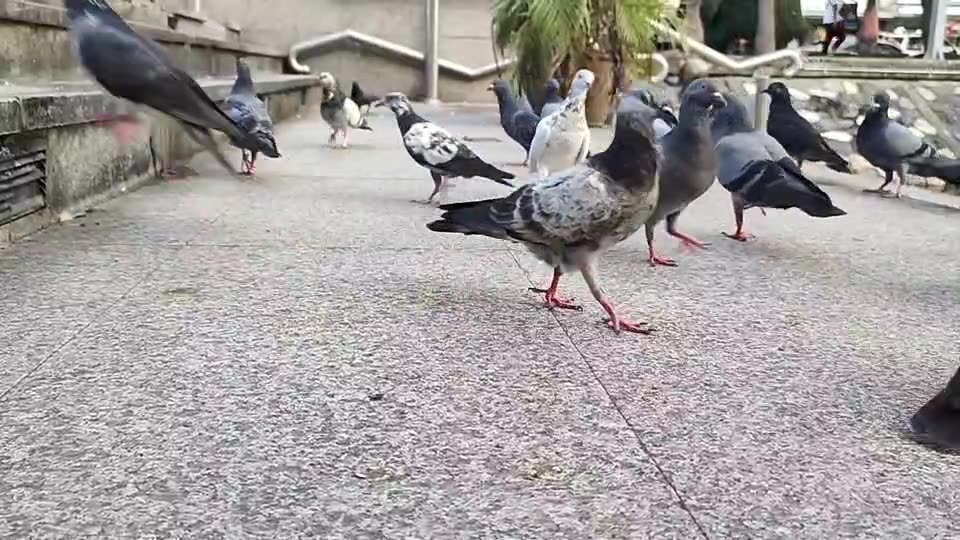Pigeon: (425, 103, 672, 336), (61, 0, 268, 177), (707, 89, 847, 242), (641, 80, 727, 268), (373, 91, 516, 204), (852, 90, 936, 198), (759, 80, 852, 175), (526, 67, 595, 179), (215, 57, 281, 174), (486, 77, 541, 167), (904, 365, 959, 453), (318, 71, 373, 149), (904, 154, 959, 191), (349, 80, 382, 115)
